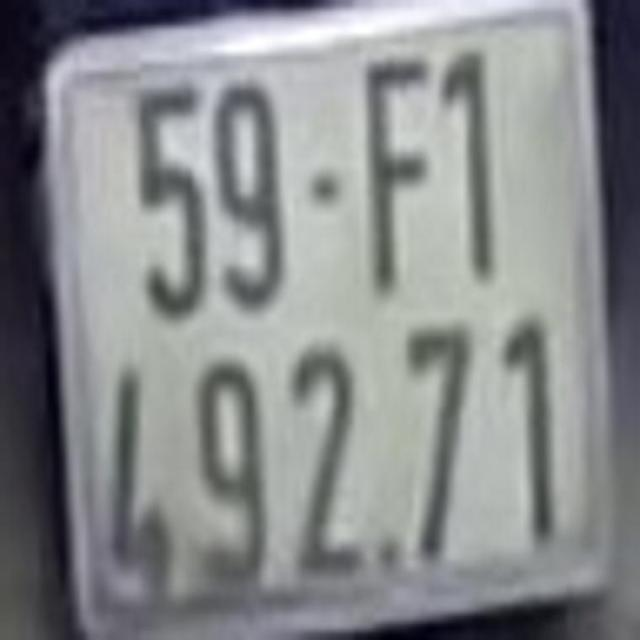1: (494, 308, 577, 550), (438, 42, 512, 289)
2: (278, 346, 371, 589)
4: (101, 362, 181, 605)
5: (136, 82, 208, 321)
7: (402, 324, 482, 559)
9: (188, 351, 272, 588), (212, 74, 288, 314)
F: (362, 52, 435, 292)
